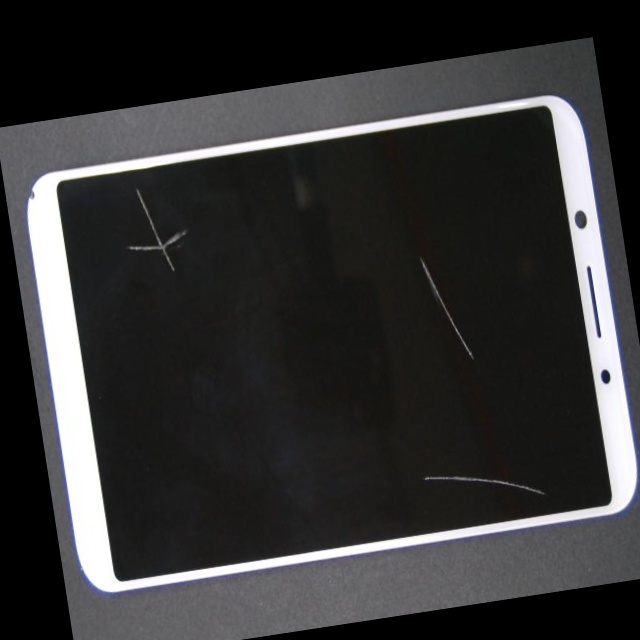scratch: (211, 113, 629, 380), (352, 273, 640, 616), (115, 166, 249, 261)
